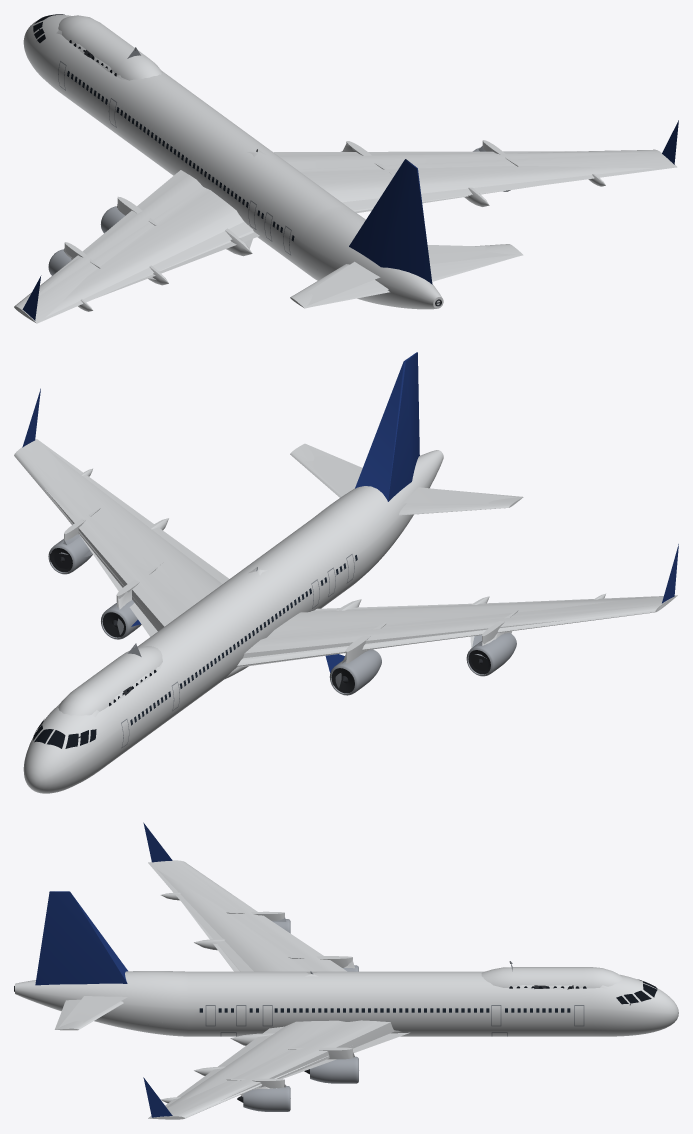
File: lat_jumbo.dae
3 renders of one model, top to bottom at view 1: azimuth 30°, elevation 25°; view 2: azimuth 150°, elevation 25°; view 3: azimuth 270°, elevation 25°, orthographic. The views are drawn at different scales.
Visible parts, largest first — view 1: lat_jumbo150, lat_jumbo32, lat_jumbo1; view 2: lat_jumbo150, lat_jumbo32, lat_jumbo1; view 3: lat_jumbo150, lat_jumbo32, lat_jumbo1.
Boxes of the visible parts, left/top/right/bottom form: lat_jumbo150: left=14, top=14, right=677, bottom=323; lat_jumbo32: left=19, top=29, right=654, bottom=317; lat_jumbo1: left=22, top=48, right=678, bottom=320; lat_jumbo150: left=14, top=439, right=677, bottom=793; lat_jumbo32: left=22, top=448, right=666, bottom=744; lat_jumbo1: left=22, top=352, right=678, bottom=672; lat_jumbo150: left=14, top=860, right=678, bottom=1119; lat_jumbo32: left=64, top=861, right=637, bottom=1119; lat_jumbo1: left=35, top=822, right=512, bottom=1117.
Bounding box in the file's own units: 64.4 × 70.72 × 17.05.
